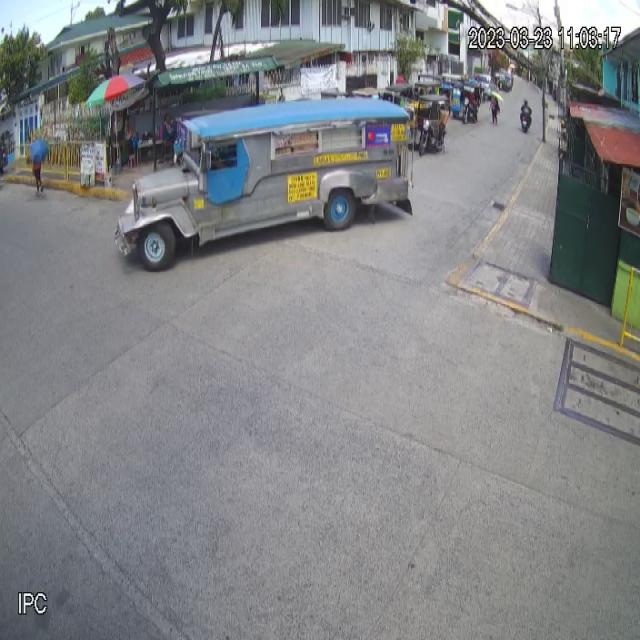Jeep: (114, 95, 413, 273)
